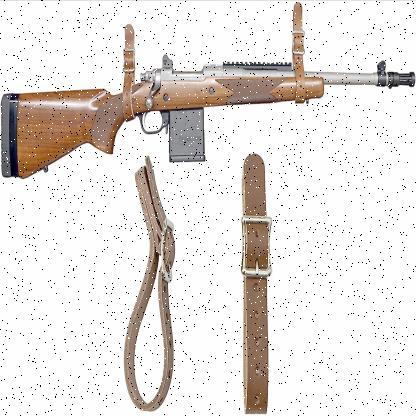rifle: (3, 48, 416, 174)
